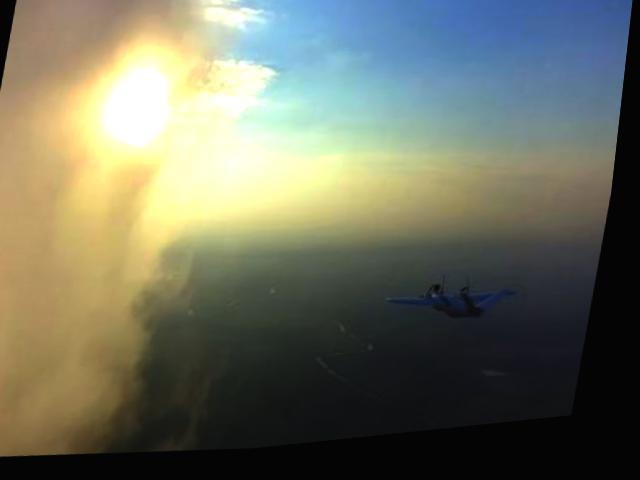uav: (386, 275, 532, 343)
